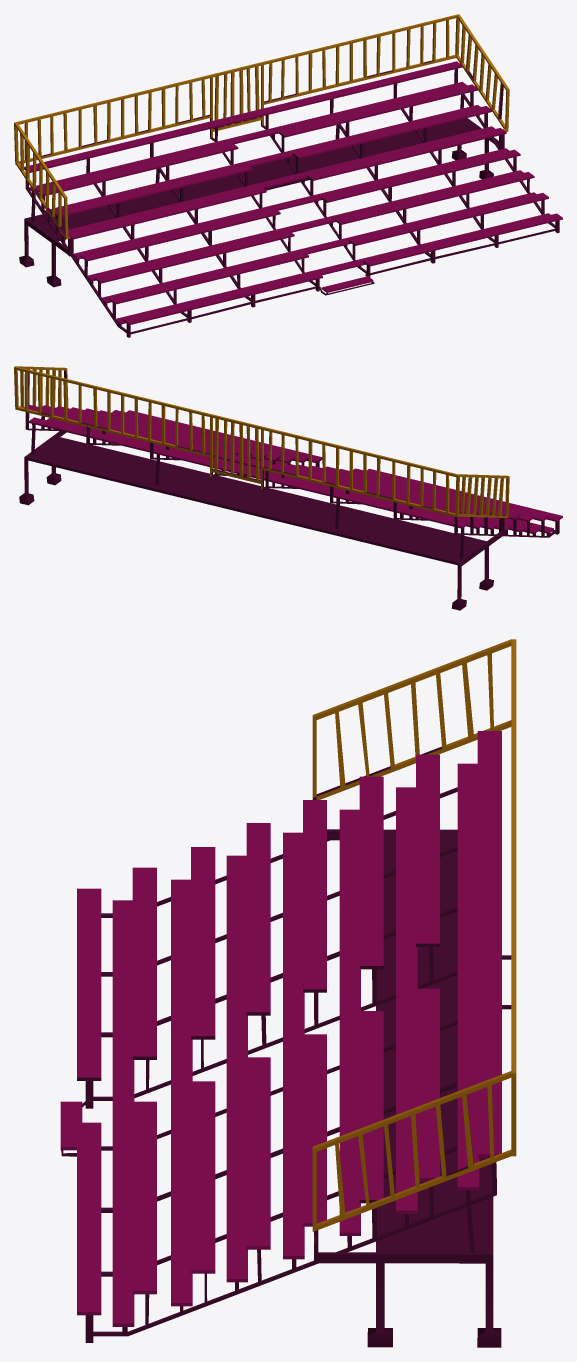
File: Seating.fbx
The picture shows the model from 3 angles, top to bottom: view 1: azimuth 30°, elevation 25°; view 2: azimuth 150°, elevation 25°; view 3: azimuth 270°, elevation 25°; orthographic projection. The views are drawn at different scales.
Parts seen in each view (by area): view 1: pCube18; view 2: pCube18; view 3: pCube18.
Part boxes in pixels (box(x1,y1,x2,y2)): pCube18: box(14, 14, 562, 337); pCube18: box(14, 366, 562, 610); pCube18: box(60, 639, 516, 1347).
Bounding box in the file's own units: 16.5 × 4.9 × 7.32.
